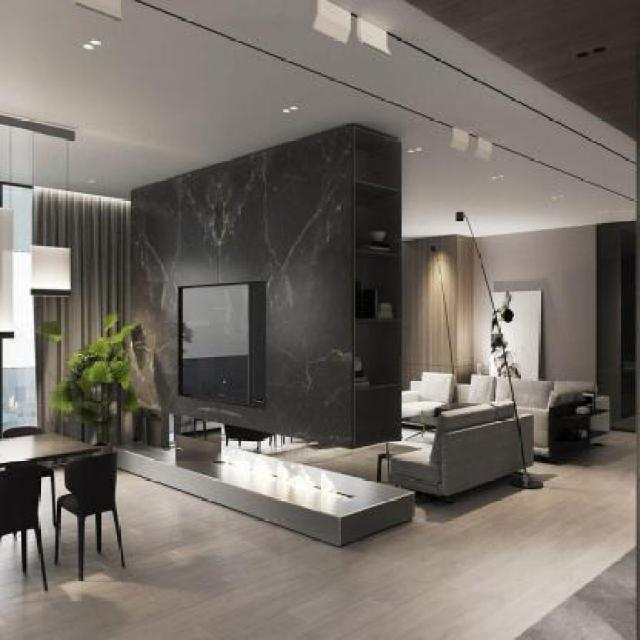Floor: (0, 430, 637, 640)
